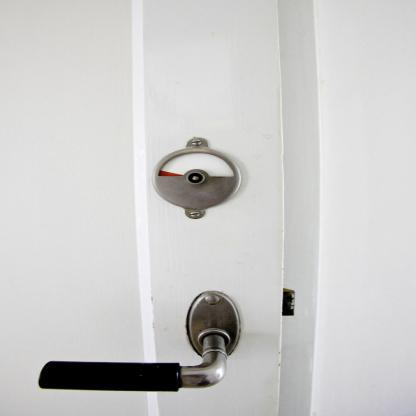door: (0, 0, 306, 415)
lever: (33, 358, 232, 395)
